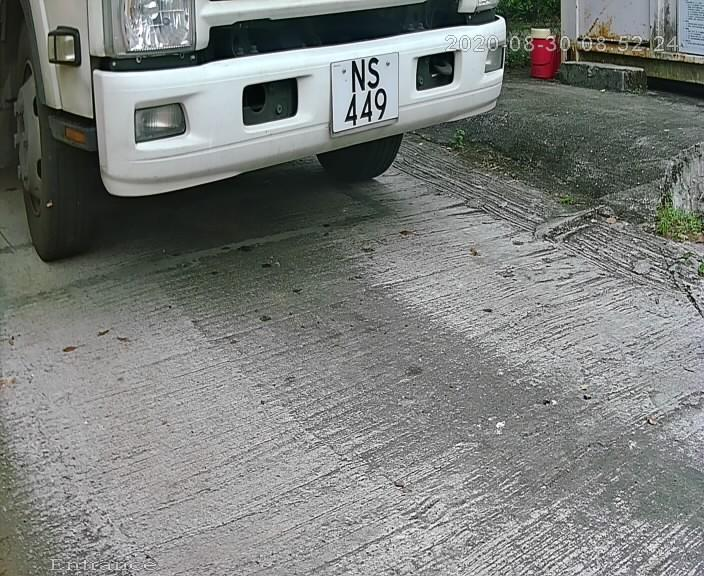License Plate: (299, 34, 415, 147)
